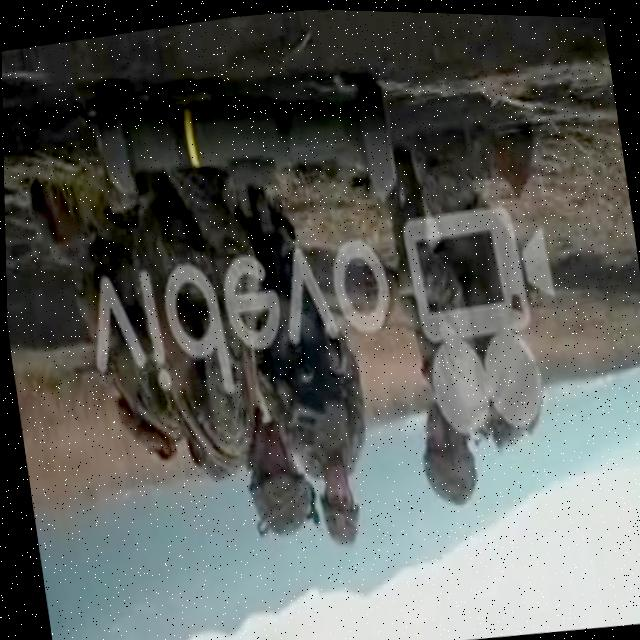rocket: (82, 46, 402, 240)
